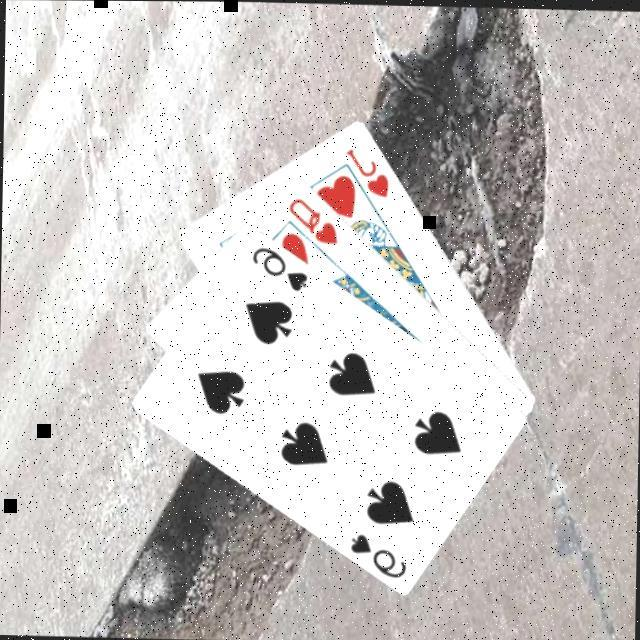6S: (344, 526, 410, 578), (246, 240, 310, 292)
JH: (341, 141, 392, 198)
QH: (283, 191, 341, 244)
